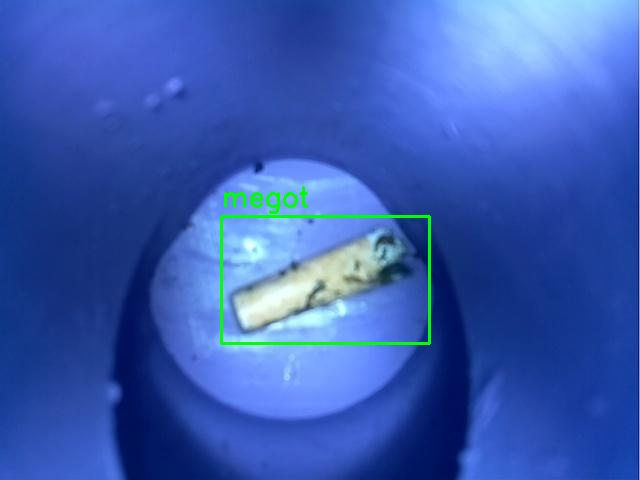megot: (221, 216, 429, 343)
